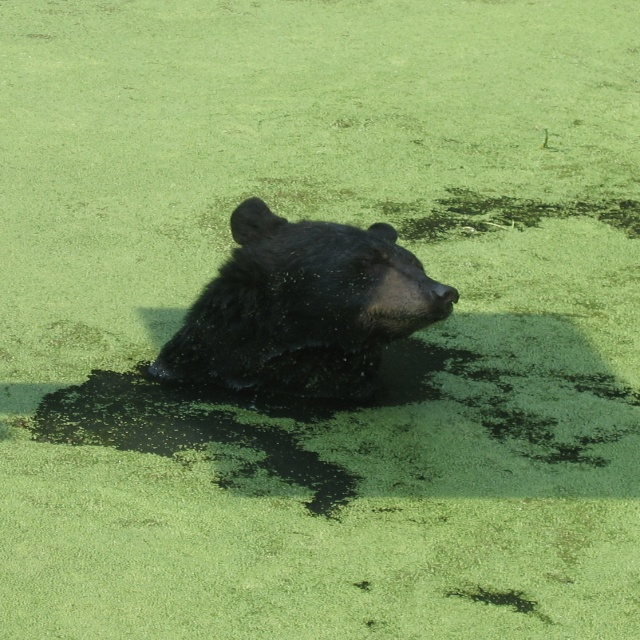Bear: (139, 196, 461, 408)
